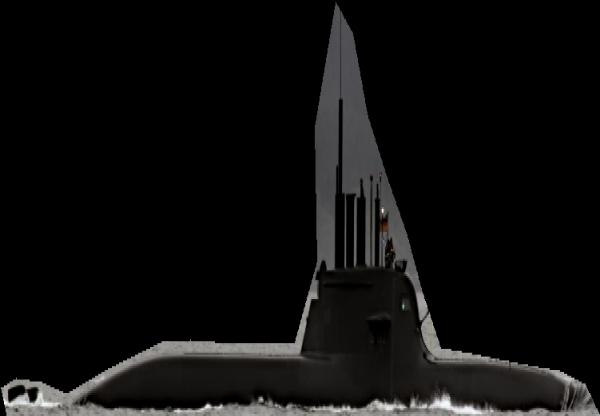Submarine: (1, 1, 600, 416)
